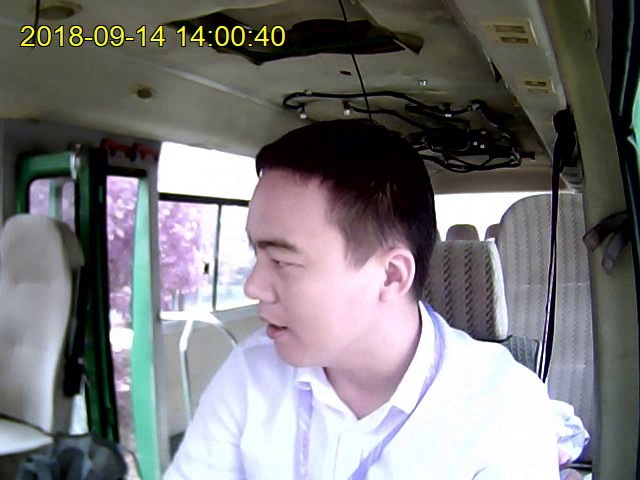closed_mouth: (262, 313, 289, 345)
